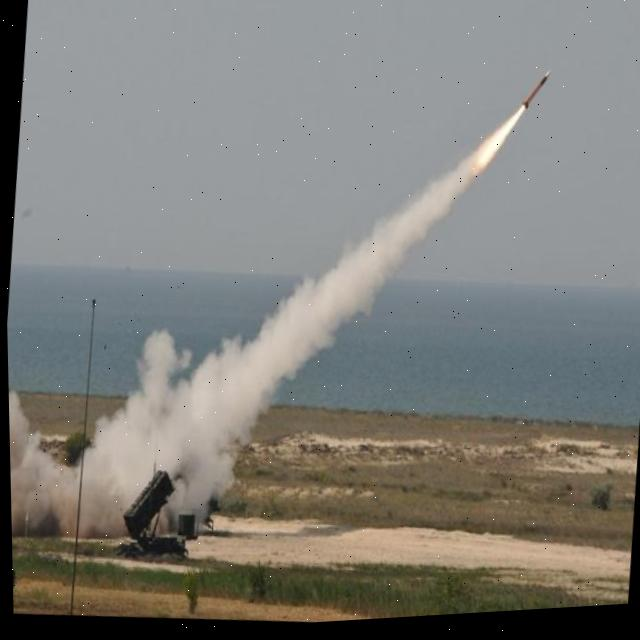missile: (519, 70, 558, 121)
